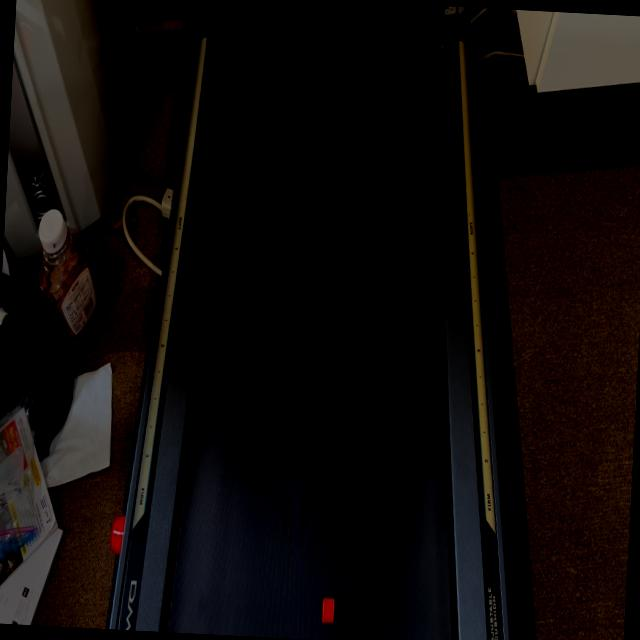Trash: (321, 594, 336, 628)
